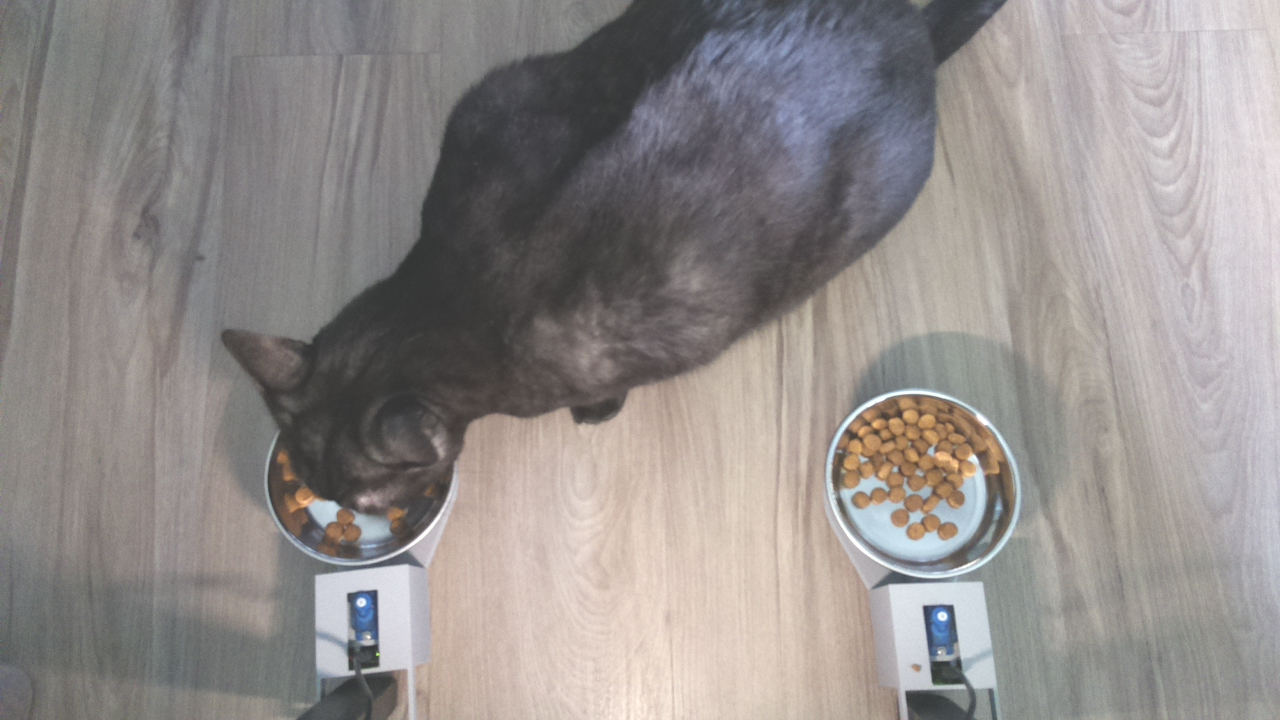open_bowl: (823, 384, 1021, 587)
saki_eating: (211, 298, 471, 565)
